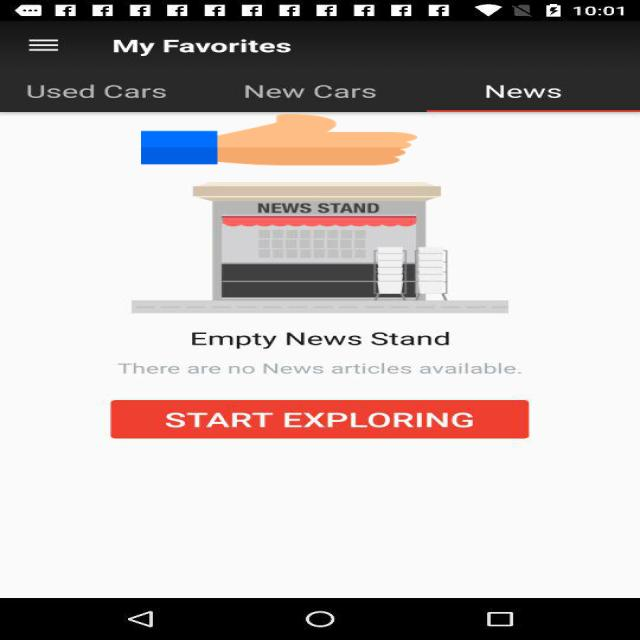privacy zuckering: (141, 112, 417, 166)
